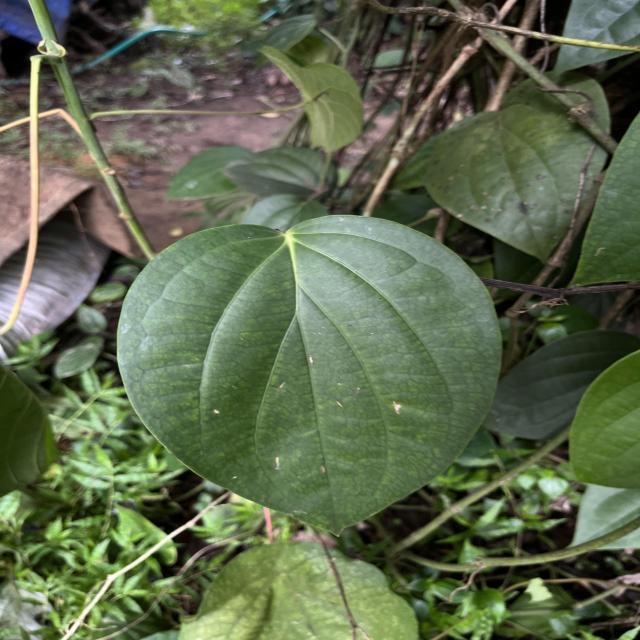Piper nigrum: (113, 213, 507, 542)
